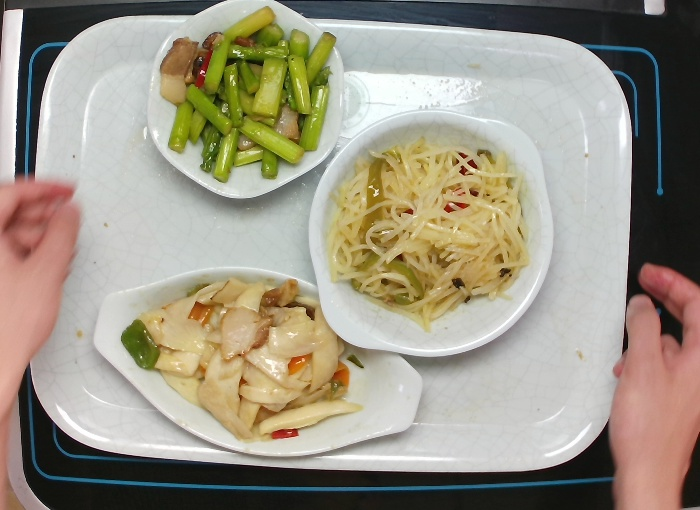JYsf-Shuang_Er_Wan: (303, 104, 557, 361)
JYsf-Yu_Pan: (89, 263, 426, 461)
WCQzf-Hua_Duo_Wan: (143, 1, 347, 201)
